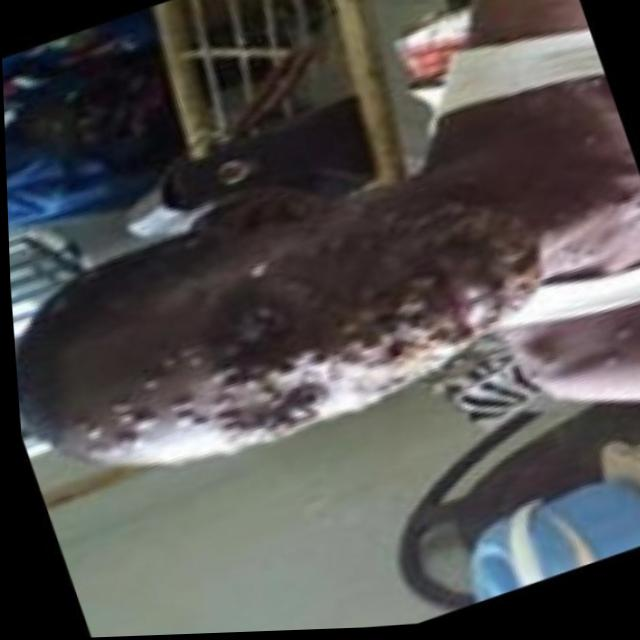Eczema: (65, 168, 553, 452)
